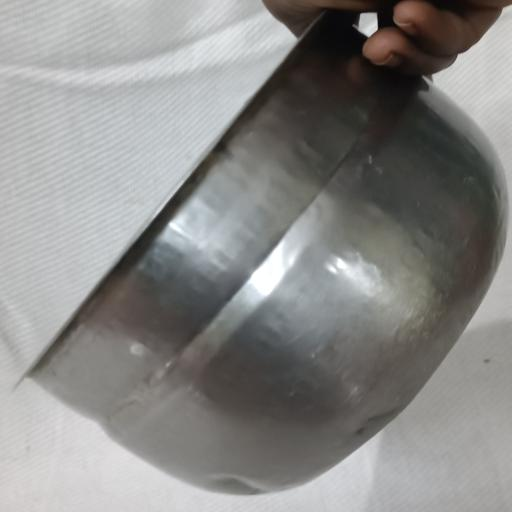vessel: (30, 11, 508, 493)
